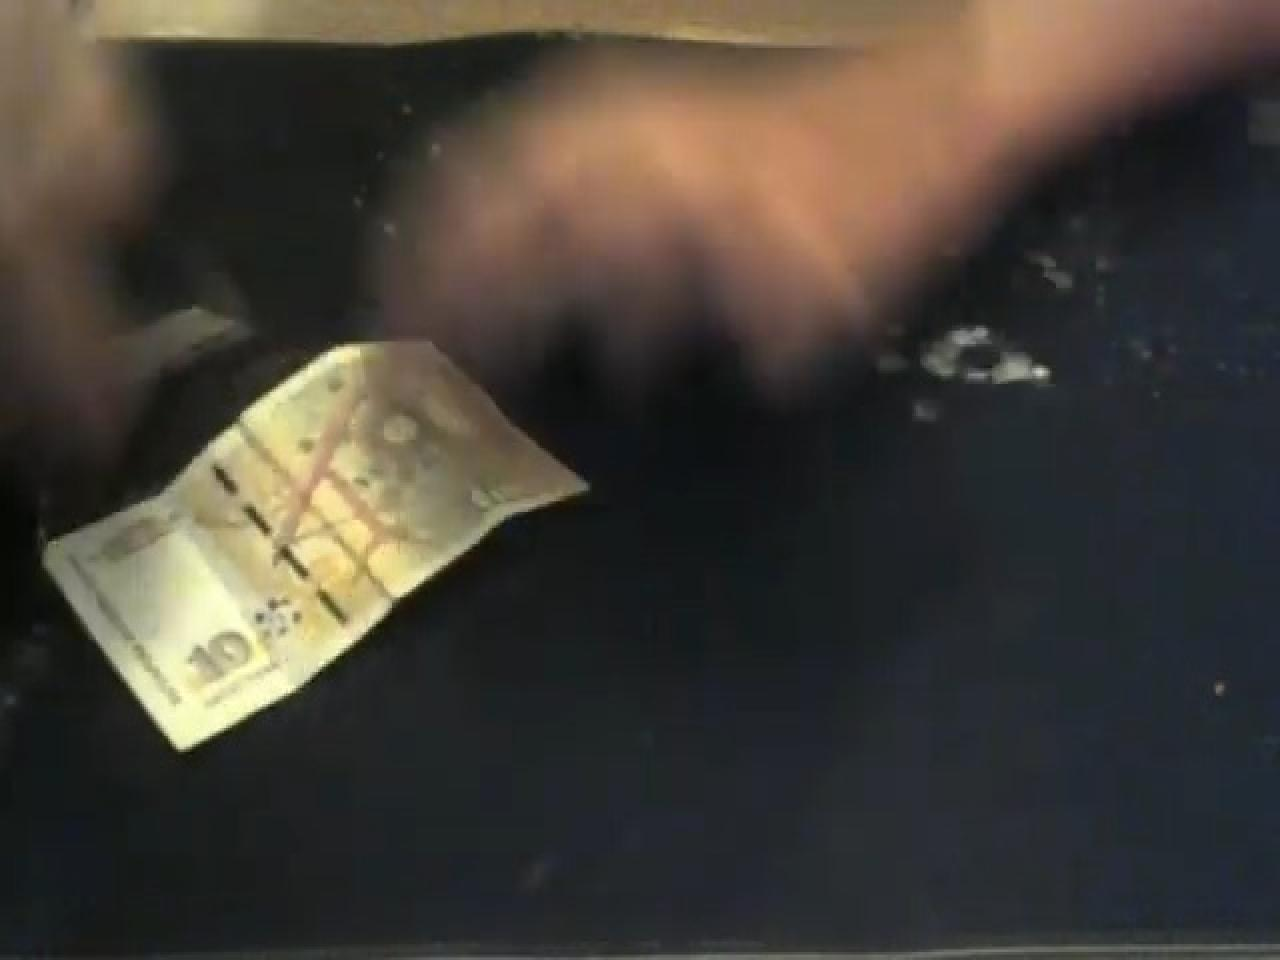10leva: (162, 598, 264, 711)
